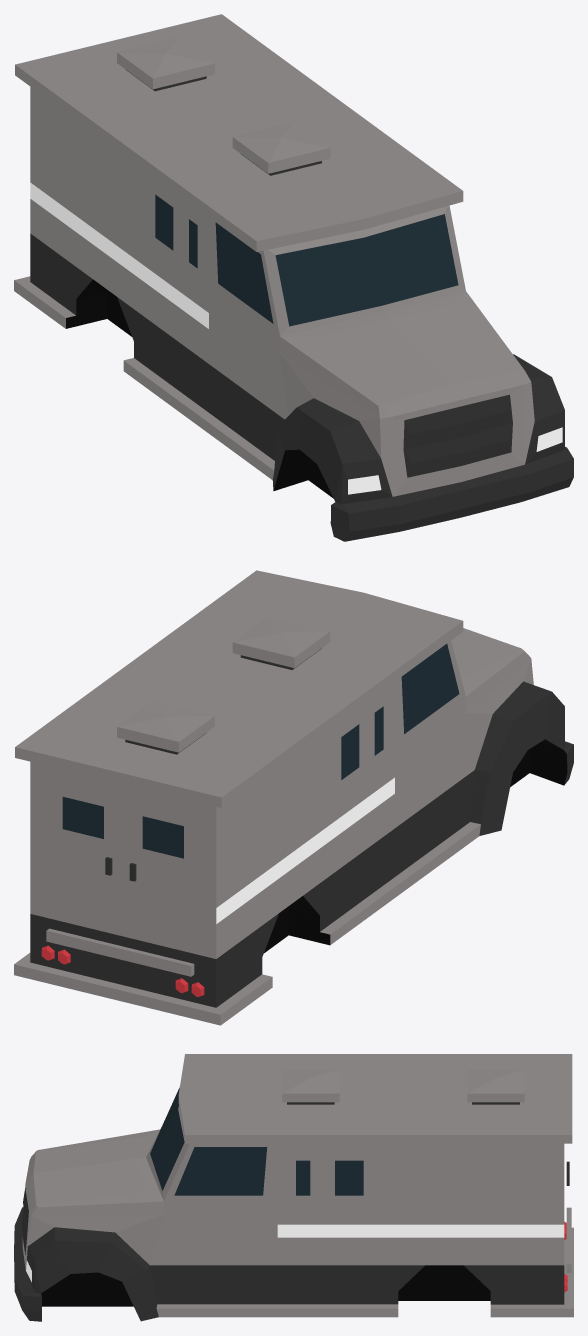
Rendered from armored-truck-base.glb.
The picture shows the model from 3 angles, top to bottom: view 1: azimuth 30°, elevation 25°; view 2: azimuth 150°, elevation 25°; view 3: azimuth 270°, elevation 25°; orthographic projection. The views are drawn at different scales.
Parts seen in each view (by area): view 1: armored-truck-base; view 2: armored-truck-base; view 3: armored-truck-base.
Boxes of the visible parts, x1,y1,x2,y2 form: armored-truck-base: [14, 14, 573, 541]; armored-truck-base: [14, 570, 573, 1025]; armored-truck-base: [14, 1054, 573, 1321].
Bounding box in the file's own units: 2.29 × 2.29 × 5.85.
Materials: 1 (1 with a texture image).
